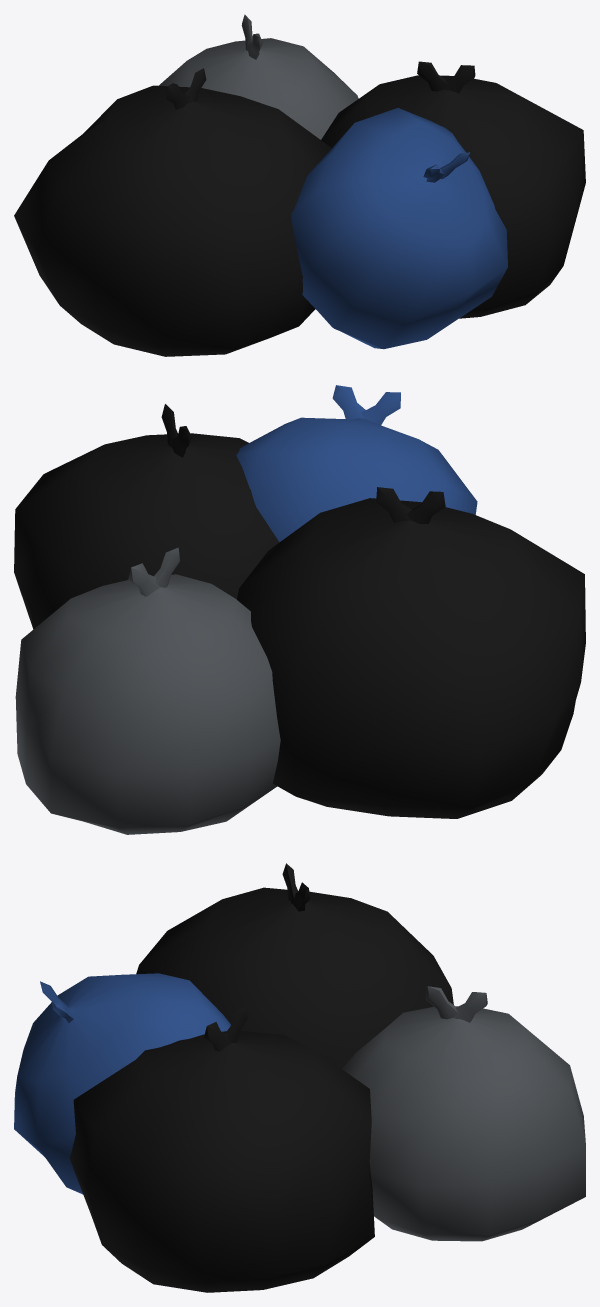
The model's file is trash_bags.glb.
3 renders of one model, top to bottom at view 1: azimuth 30°, elevation 25°; view 2: azimuth 150°, elevation 25°; view 3: azimuth 270°, elevation 25°, orthographic. The views are drawn at different scales.
Visible parts, largest first — view 1: trash_bags; view 2: trash_bags; view 3: trash_bags.
Boxes of the visible parts, x1=… form: trash_bags: x1=14, y1=14, x2=585, y2=356; trash_bags: x1=14, y1=385, x2=585, y2=834; trash_bags: x1=14, y1=863, x2=585, y2=1292.
Size of the model in its own units: 1.22 by 0.5823 by 1.14.
